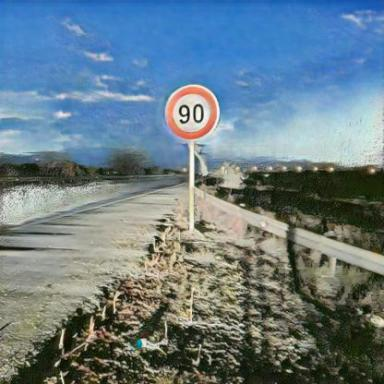Speed_limit_90: (168, 89, 217, 139)
